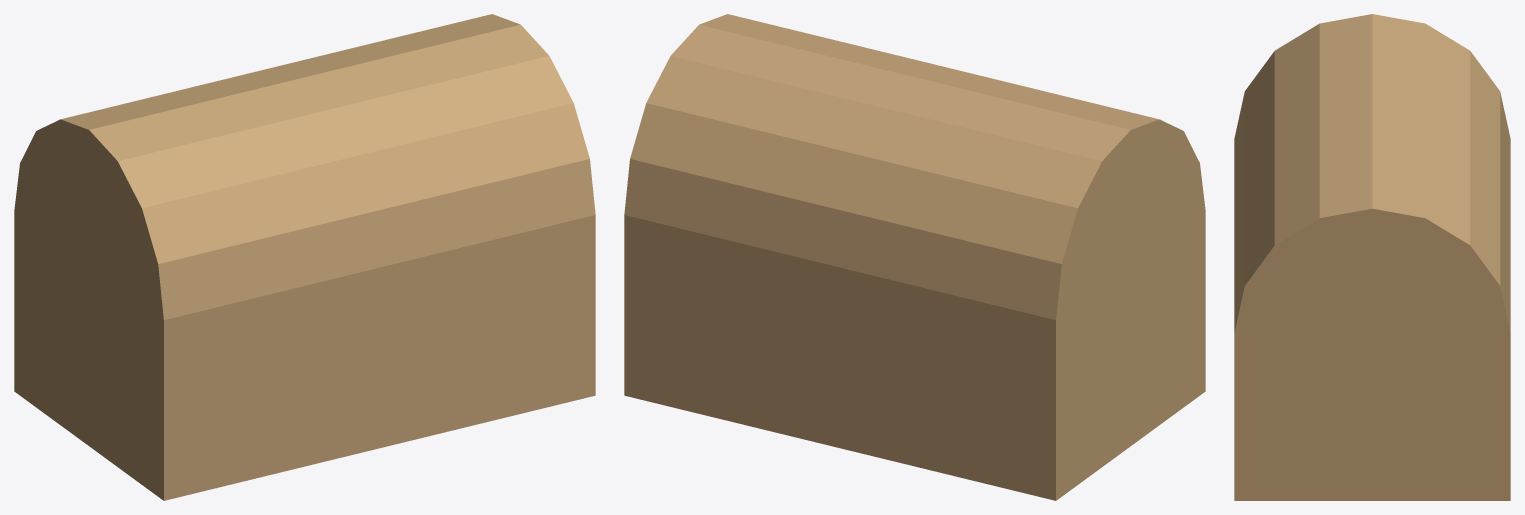
File: cofre.glb
3 views of the same model, side by side, from view 1: azimuth 30°, elevation 25°; view 2: azimuth 150°, elevation 25°; view 3: azimuth 270°, elevation 25° (orthographic). The views are drawn at different scales.
Parts seen in each view (by area): view 1: Cofre; view 2: Cofre; view 3: Cofre.
Boxes of the visible parts, box(x1,y1,x2,y2) form: Cofre: box(14, 14, 595, 500); Cofre: box(624, 14, 1205, 500); Cofre: box(1234, 14, 1510, 500).
Size of the model in its own units: 1 by 0.7 by 0.6.
